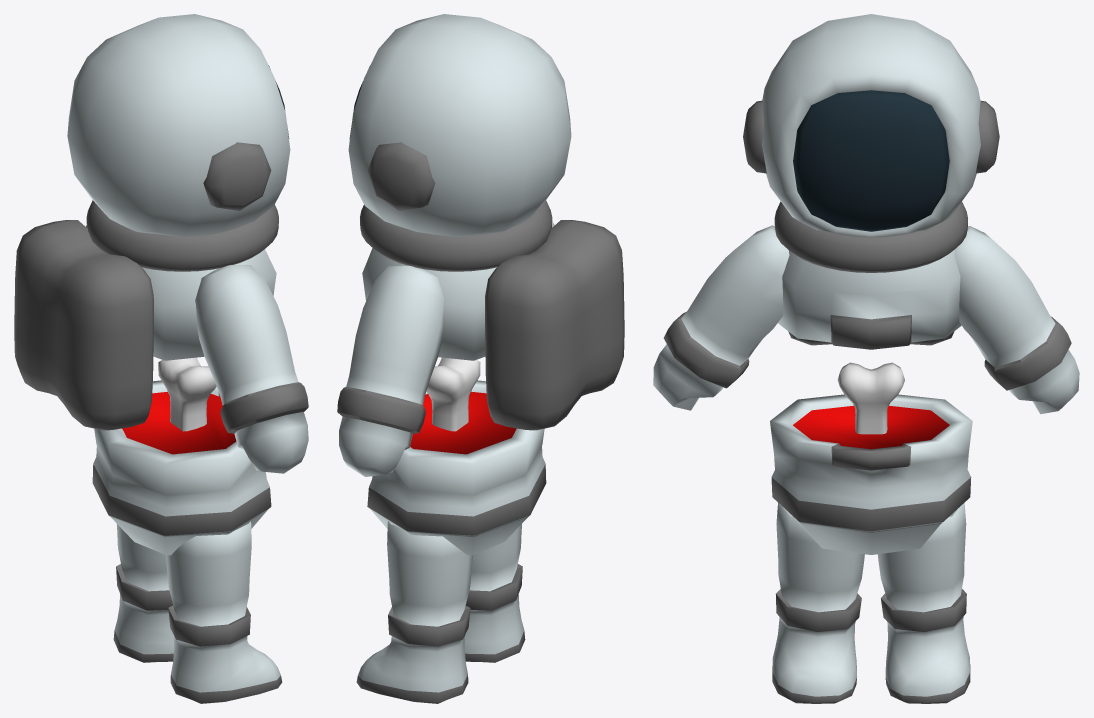
Rendered from Spaceman-Dead.fbx.
3 renders of one model, left to right at view 1: azimuth 30°, elevation 25°; view 2: azimuth 150°, elevation 25°; view 3: azimuth 270°, elevation 25°, orthographic.
Visible parts, largest first — view 1: Helmet, Backpack, Body - Bottom, Arm.R, Leg.R, Neck, Leg.L, Body - Top, Ears, Cube; view 2: Helmet, Backpack, Body - Bottom, Arm.L, Leg.L, Neck, Leg.R, Body - Top, Ears, Cube; view 3: Body - Bottom, Helmet, Visor, Leg.L, Body - Top, Arm.R, Leg.R, Arm.L, Neck, Cube, Ears.
Part boxes in pixels (<box>): Helmet: <box>67,14,290,236</box>; Backpack: <box>14,220,153,430</box>; Body - Bottom: <box>92,380,271,555</box>; Arm.R: <box>195,265,308,473</box>; Leg.R: <box>165,521,282,703</box>; Neck: <box>86,200,278,271</box>; Leg.L: <box>113,524,174,662</box>; Body - Top: <box>142,249,276,360</box>; Ears: <box>203,142,271,210</box>; Cube: <box>158,357,216,431</box>; Helmet: <box>348,14,571,236</box>; Backpack: <box>485,220,624,430</box>; Body - Bottom: <box>367,380,546,555</box>; Arm.L: <box>337,265,445,476</box>; Leg.L: <box>356,521,472,703</box>; Neck: <box>360,200,552,271</box>; Leg.R: <box>464,524,525,662</box>; Body - Top: <box>362,248,496,360</box>; Ears: <box>367,142,435,210</box>; Cube: <box>426,357,480,431</box>; Body - Bottom: <box>770,394,972,554</box>; Helmet: <box>761,14,980,236</box>; Visor: <box>793,90,949,231</box>; Leg.L: <box>877,503,970,703</box>; Body - Top: <box>778,249,961,349</box>; Arm.R: <box>653,225,789,410</box>; Leg.R: <box>772,503,864,703</box>; Arm.L: <box>954,226,1079,414</box>; Neck: <box>774,201,967,272</box>; Cube: <box>837,362,904,434</box>; Ears: <box>743,100,999,173</box>.
Bounding box in the file's own units: 135 × 374 × 223.
